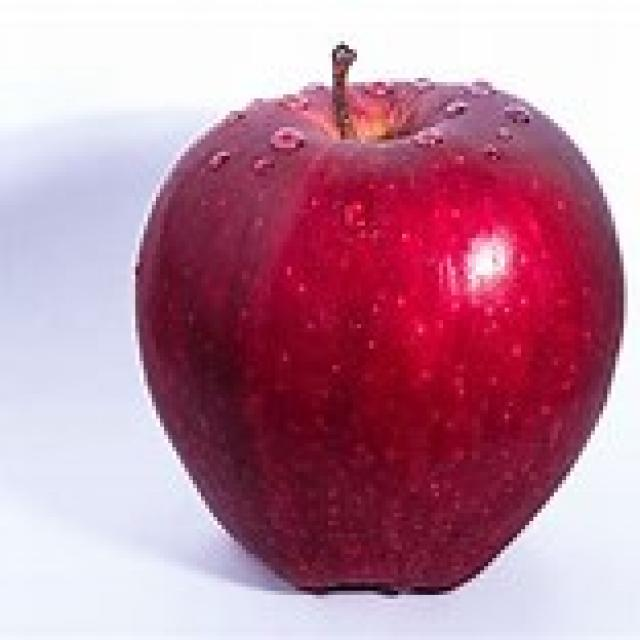Apple: (119, 43, 626, 596)
